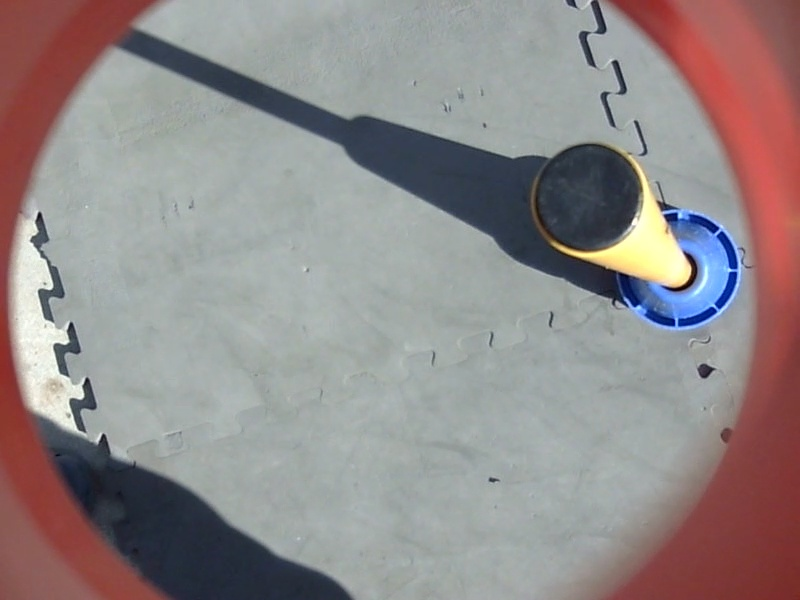tip: (526, 138, 652, 257)
